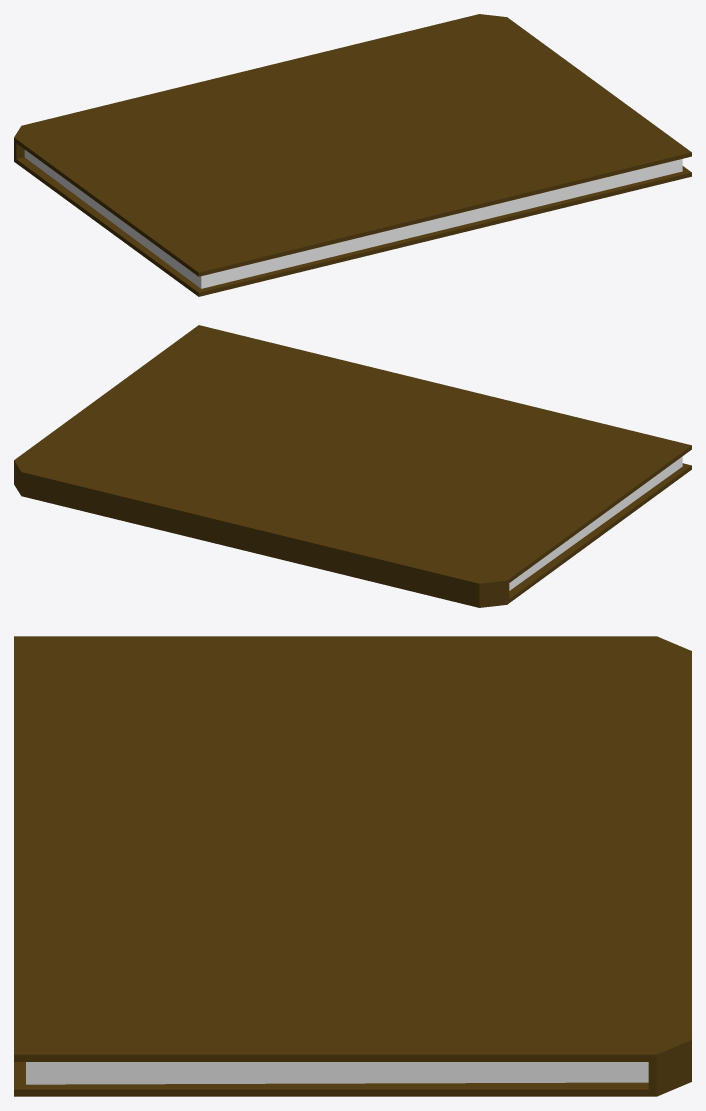
File: Note Book_7.fbx
3 renders of one model, top to bottom at view 1: azimuth 30°, elevation 25°; view 2: azimuth 150°, elevation 25°; view 3: azimuth 270°, elevation 25°, orthographic. The views are drawn at different scales.
Parts seen in each view (by area): view 1: Note Book_7; view 2: Note Book_7; view 3: Note Book_7.
Part boxes in pixels (x1,y1,x2,y2): Note Book_7: (14, 14, 691, 296); Note Book_7: (14, 325, 691, 607); Note Book_7: (14, 636, 691, 1096).
Size of the model in its own units: 0.2067 by 0.0097 by 0.1415.
